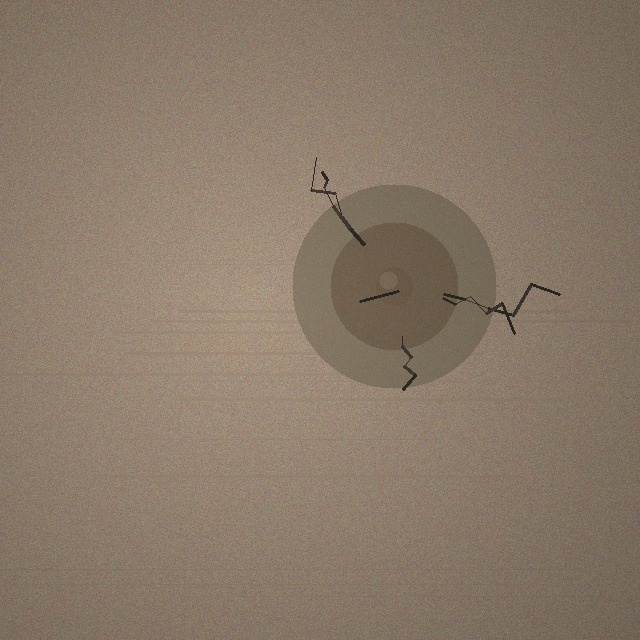crack: (292, 184, 496, 388)
